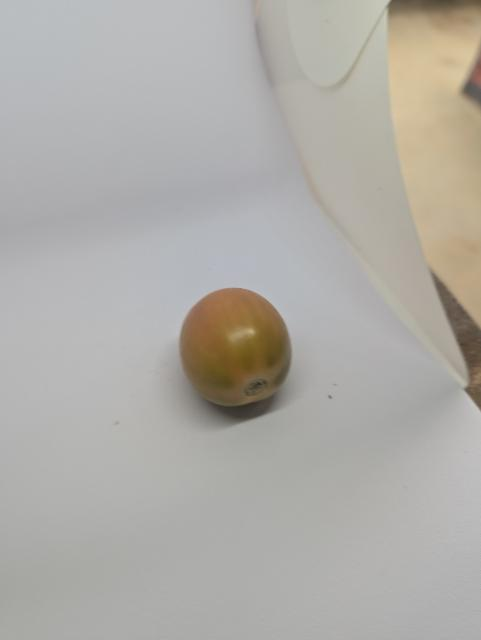turning: (162, 281, 301, 413)
